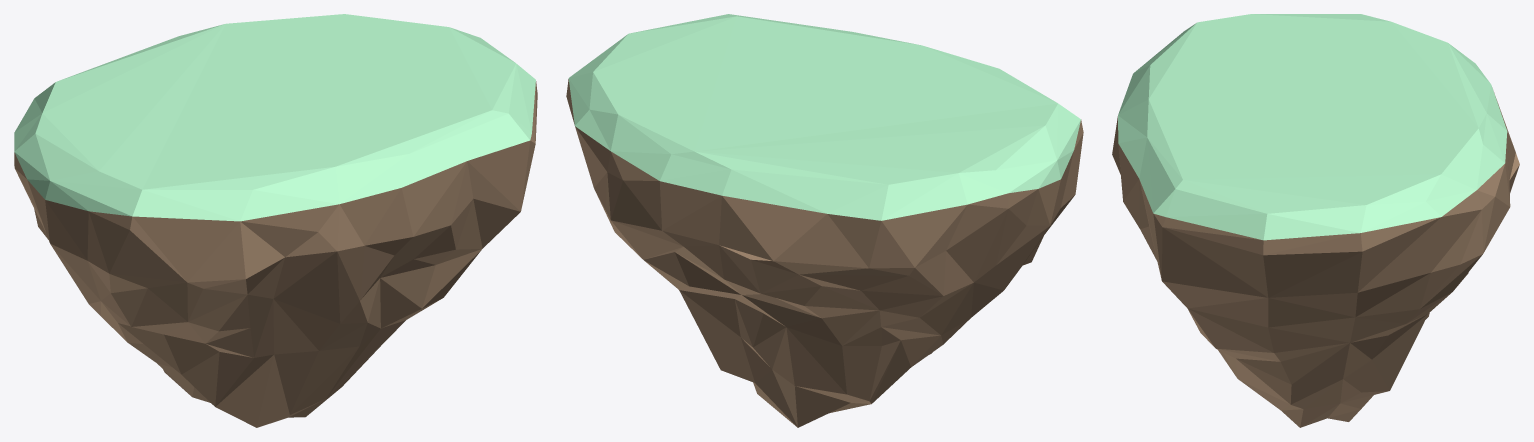
The model's file is Platform1 - Copy.fbx.
3 renders of one model, left to right at view 1: azimuth 30°, elevation 25°; view 2: azimuth 150°, elevation 25°; view 3: azimuth 270°, elevation 25°, orthographic. The views are drawn at different scales.
Parts seen in each view (by area): view 1: polySurface1; view 2: polySurface1; view 3: polySurface1.
Part boxes in pixels (<box>): polySurface1: <box>14,14,537,427</box>; polySurface1: <box>566,14,1083,427</box>; polySurface1: <box>1112,14,1519,427</box>.
Size of the model in its own units: 18.55 by 12.12 by 14.33.
